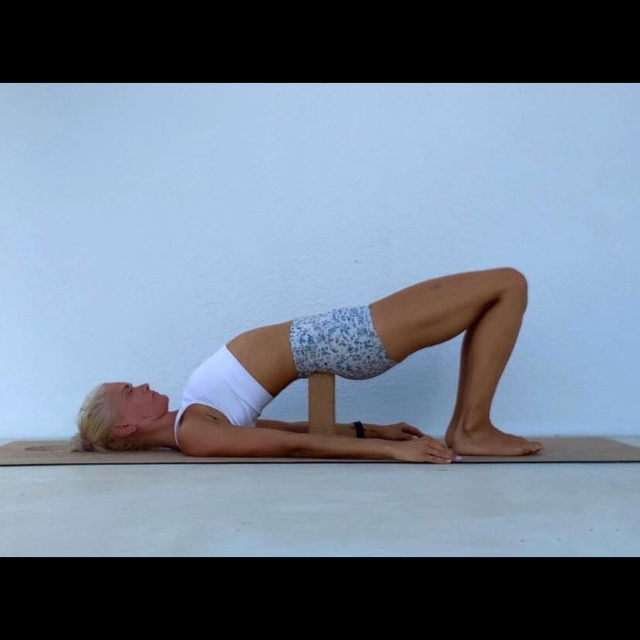Bridge_Pose: (67, 261, 552, 467)
